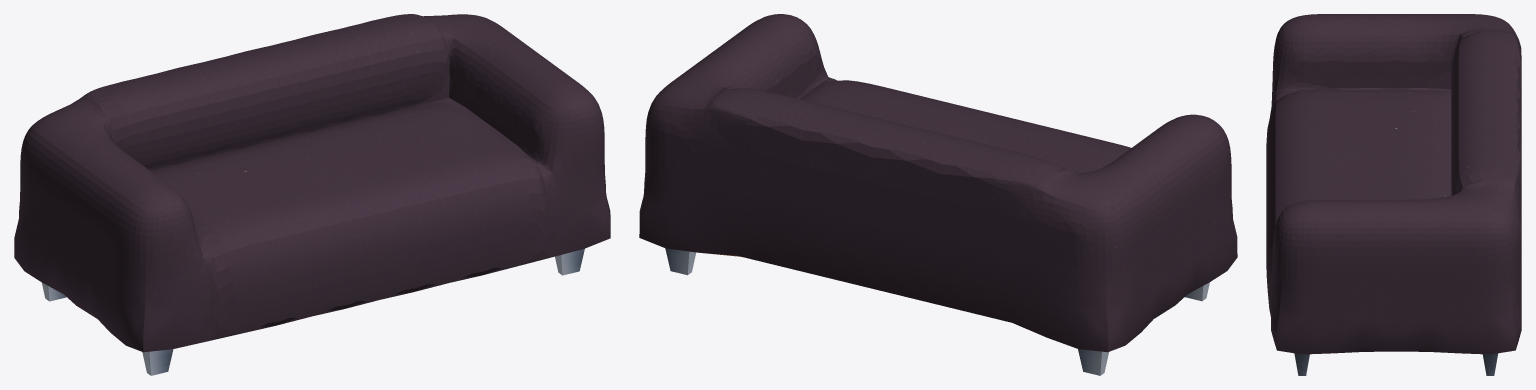
File: Kallup.fbx
3 renders of one model, left to right at view 1: azimuth 30°, elevation 25°; view 2: azimuth 150°, elevation 25°; view 3: azimuth 270°, elevation 25°, orthographic. The views are drawn at different scales.
Parts seen in each view (by area): view 1: Box001; view 2: Box001; view 3: Box001.
Boxes of the visible parts, x1,y1,x2,y2 form: Box001: (14,14,610,375); Box001: (639,14,1237,375); Box001: (1266,14,1521,375).
Bounding box in the file's own units: 180 × 68.59 × 89.64.
